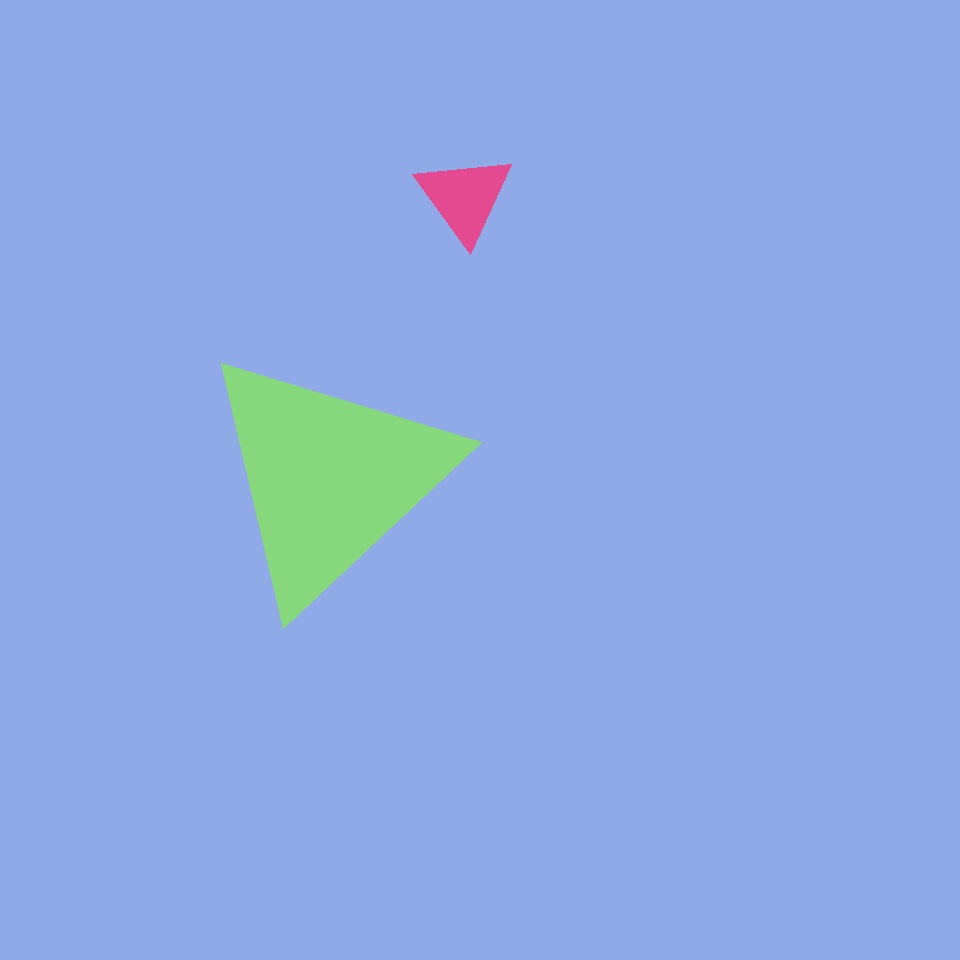circle: (199, 346, 459, 610), (255, 584, 505, 829), (82, 765, 210, 882), (416, 153, 514, 243)
square: (53, 506, 251, 704), (137, 729, 327, 919)
